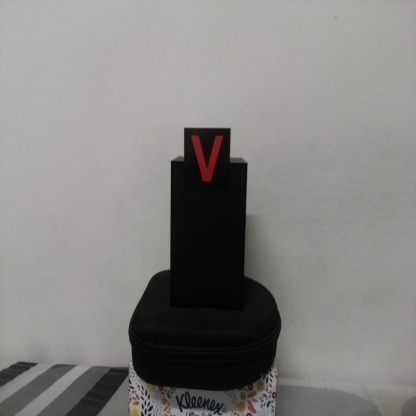id_11: (184, 129, 230, 191)
